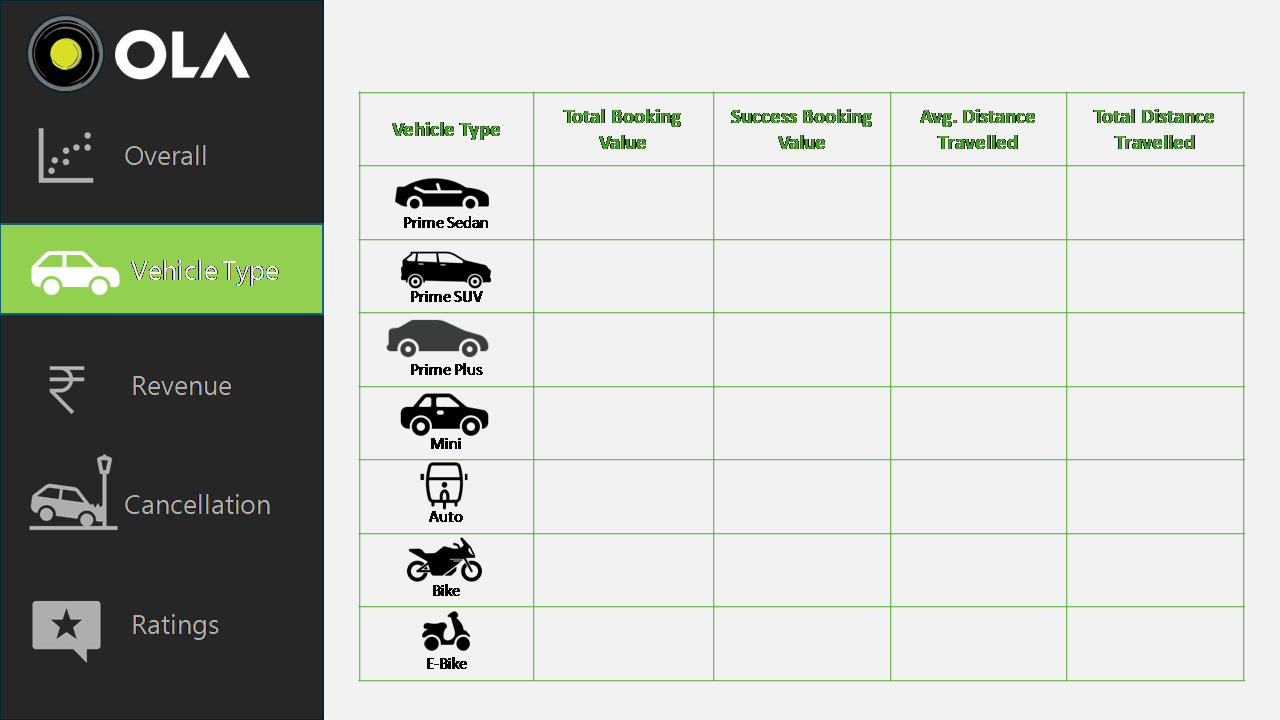

The dashboard page shown, as its layout file describes it:
{"tool":"powerbi","page":{"name":"Vehicle Type","canvas":[1280,720],"ordinal":1},"visuals":[{"type":"actionButton","box":[0,222.5,326,90.7],"z":0},{"type":"actionButton","box":[0,335.9,326,90.7],"z":1000},{"type":"actionButton","box":[0,450.7,326,89.3],"z":2000},{"type":"actionButton","box":[0,588.2,326,70.9],"z":3000},{"type":"actionButton","box":[0,112,326,87.9],"z":4000},{"type":"cardVisual","fields":{"Data":["Sum(June.Booking_Value)"]},"box":[536.7,166.7,178.3,65],"z":5000},{"type":"cardVisual","fields":{"Data":["Sum(June.Booking_Value)"]},"box":[536.2,245,178.8,60],"z":6000},{"type":"cardVisual","fields":{"Data":["Sum(June.Booking_Value)"]},"box":[536.2,462.5,178.8,65],"z":7000},{"type":"cardVisual","fields":{"Data":["Sum(June.Booking_Value)"]},"box":[536.2,540,178.8,65],"z":8000},{"type":"cardVisual","fields":{"Data":["Sum(June.Booking_Value)"]},"box":[536.7,608.3,178.3,65],"z":9000},{"type":"cardVisual","fields":{"Data":["Sum(June.Booking_Value)"]},"box":[536.2,313.8,178.8,65],"z":10000},{"type":"cardVisual","fields":{"Data":["Sum(June.Booking_Value)"]},"box":[536.2,386.2,178.8,65],"z":11000},{"type":"cardVisual","fields":{"Data":["Sum(June.Booking_Value)"]},"box":[715,167.5,170,65],"z":12000},{"type":"cardVisual","fields":{"Data":["Sum(June.Booking_Value)"]},"box":[715,245,170,60],"z":13000},{"type":"cardVisual","fields":{"Data":["Sum(June.Booking_Value)"]},"box":[715.7,315.7,170,60],"z":14000},{"type":"cardVisual","fields":{"Data":["Sum(June.Booking_Value)"]},"box":[715.7,388.6,170,60],"z":15000},{"type":"cardVisual","fields":{"Data":["Sum(June.Booking_Value)"]},"box":[715.7,465.7,170,60],"z":16000},{"type":"cardVisual","fields":{"Data":["Sum(June.Booking_Value)"]},"box":[715.7,540,170,60],"z":17000},{"type":"cardVisual","fields":{"Data":["Sum(June.Booking_Value)"]},"box":[715.7,611.4,170,60],"z":18000},{"type":"cardVisual","fields":{"Data":["Avg(June.Ride_Distance)"]},"box":[897.1,167.1,170,65.7],"z":19000},{"type":"cardVisual","fields":{"Data":["Avg(June.Ride_Distance)"]},"box":[897.1,235.7,170,65.7],"z":20000},{"type":"cardVisual","fields":{"Data":["Avg(June.Ride_Distance)"]},"box":[897.1,600,170,65.7],"z":21000},{"type":"cardVisual","fields":{"Data":["Avg(June.Ride_Distance)"]},"box":[897.1,528.6,170,65.7],"z":22000},{"type":"cardVisual","fields":{"Data":["Avg(June.Ride_Distance)"]},"box":[897.1,460,170,65.7],"z":23000},{"type":"cardVisual","fields":{"Data":["Avg(June.Ride_Distance)"]},"box":[897.1,385.7,170,65.7],"z":24000},{"type":"cardVisual","fields":{"Data":["Avg(June.Ride_Distance)"]},"box":[897.1,315.7,170,65.7],"z":25000},{"type":"cardVisual","fields":{"Data":["Sum(June.Ride_Distance)"]},"box":[1066.7,168,169.7,67.2],"z":26000},{"type":"cardVisual","fields":{"Data":["Sum(June.Ride_Distance)"]},"box":[1066.7,235.2,169.7,65.5],"z":27000},{"type":"cardVisual","fields":{"Data":["Sum(June.Ride_Distance)"]},"box":[1066.7,312.4,169.7,65.5],"z":28000},{"type":"cardVisual","fields":{"Data":["Sum(June.Ride_Distance)"]},"box":[1065,384.7,169.7,65.5],"z":29000},{"type":"cardVisual","fields":{"Data":["Sum(June.Ride_Distance)"]},"box":[1065,460.3,169.7,65.5],"z":30000},{"type":"cardVisual","fields":{"Data":["Sum(June.Ride_Distance)"]},"box":[1065,529.1,169.7,65.5],"z":31000},{"type":"cardVisual","fields":{"Data":["Sum(June.Ride_Distance)"]},"box":[1065,606.4,169.7,65.5],"z":32000},{"type":"slicer","title":"Date","fields":{"Values":["June.Date"]},"box":[990,11.4,247.1,77.1],"z":33000}]}

Visuals, with their boxes on the page's 1280x720 design canvas (x1, y1, x2, y2). These are canvas units, not pixel positions in the 1280x720 screenshot, which may show the page scaled, cropped or inside an application window:
actionButton: 0/222/326/313
actionButton: 0/336/326/427
actionButton: 0/451/326/540
actionButton: 0/588/326/659
actionButton: 0/112/326/200
cardVisual - Sum(June.Booking_Value): 537/167/715/232
cardVisual - Sum(June.Booking_Value): 536/245/715/305
cardVisual - Sum(June.Booking_Value): 536/462/715/528
cardVisual - Sum(June.Booking_Value): 536/540/715/605
cardVisual - Sum(June.Booking_Value): 537/608/715/673
cardVisual - Sum(June.Booking_Value): 536/314/715/379
cardVisual - Sum(June.Booking_Value): 536/386/715/451
cardVisual - Sum(June.Booking_Value): 715/168/885/232
cardVisual - Sum(June.Booking_Value): 715/245/885/305
cardVisual - Sum(June.Booking_Value): 716/316/886/376
cardVisual - Sum(June.Booking_Value): 716/389/886/449
cardVisual - Sum(June.Booking_Value): 716/466/886/526
cardVisual - Sum(June.Booking_Value): 716/540/886/600
cardVisual - Sum(June.Booking_Value): 716/611/886/671
cardVisual - Avg(June.Ride_Distance): 897/167/1067/233
cardVisual - Avg(June.Ride_Distance): 897/236/1067/301
cardVisual - Avg(June.Ride_Distance): 897/600/1067/666
cardVisual - Avg(June.Ride_Distance): 897/529/1067/594
cardVisual - Avg(June.Ride_Distance): 897/460/1067/526
cardVisual - Avg(June.Ride_Distance): 897/386/1067/451
cardVisual - Avg(June.Ride_Distance): 897/316/1067/381
cardVisual - Sum(June.Ride_Distance): 1067/168/1236/235
cardVisual - Sum(June.Ride_Distance): 1067/235/1236/301
cardVisual - Sum(June.Ride_Distance): 1067/312/1236/378
cardVisual - Sum(June.Ride_Distance): 1065/385/1235/450
cardVisual - Sum(June.Ride_Distance): 1065/460/1235/526
cardVisual - Sum(June.Ride_Distance): 1065/529/1235/595
cardVisual - Sum(June.Ride_Distance): 1065/606/1235/672
"Date" slicer: 990/11/1237/88
